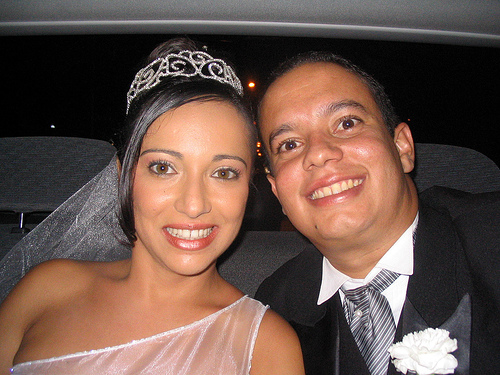without_mask: (246, 70, 427, 249), (109, 82, 262, 283)
